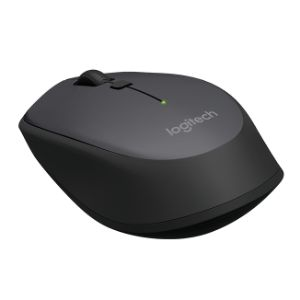mouse: (16, 67, 286, 246)
